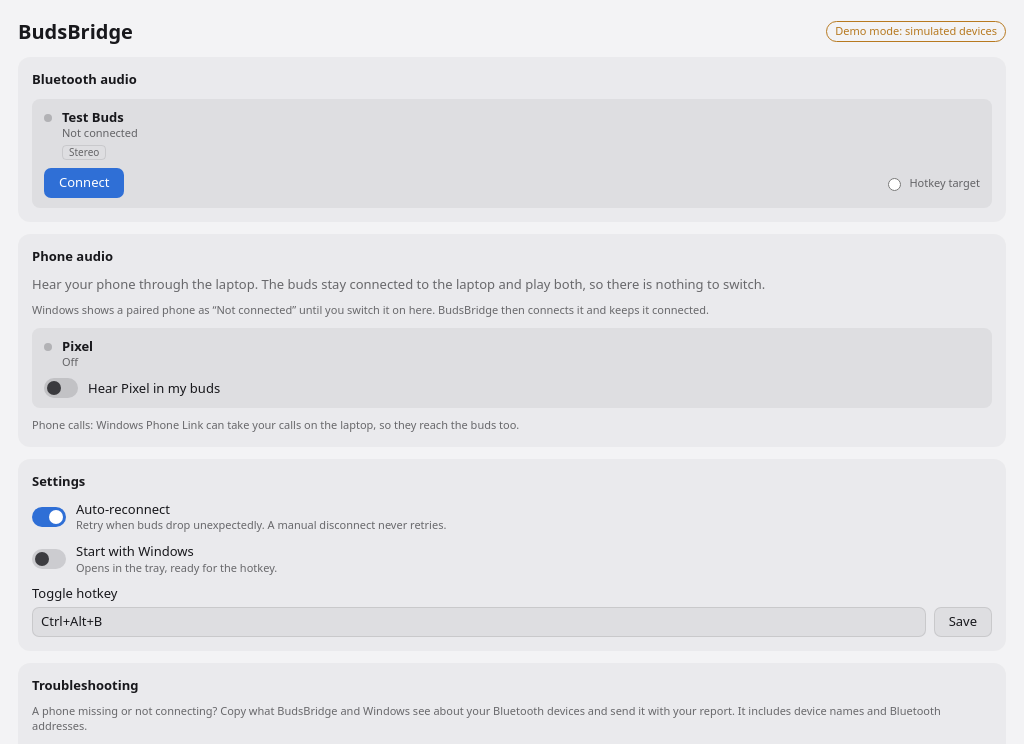
Test: App › reports failed requests
Click the button named "Connect Test Buds" at (84, 183), box [44,168,124,198]
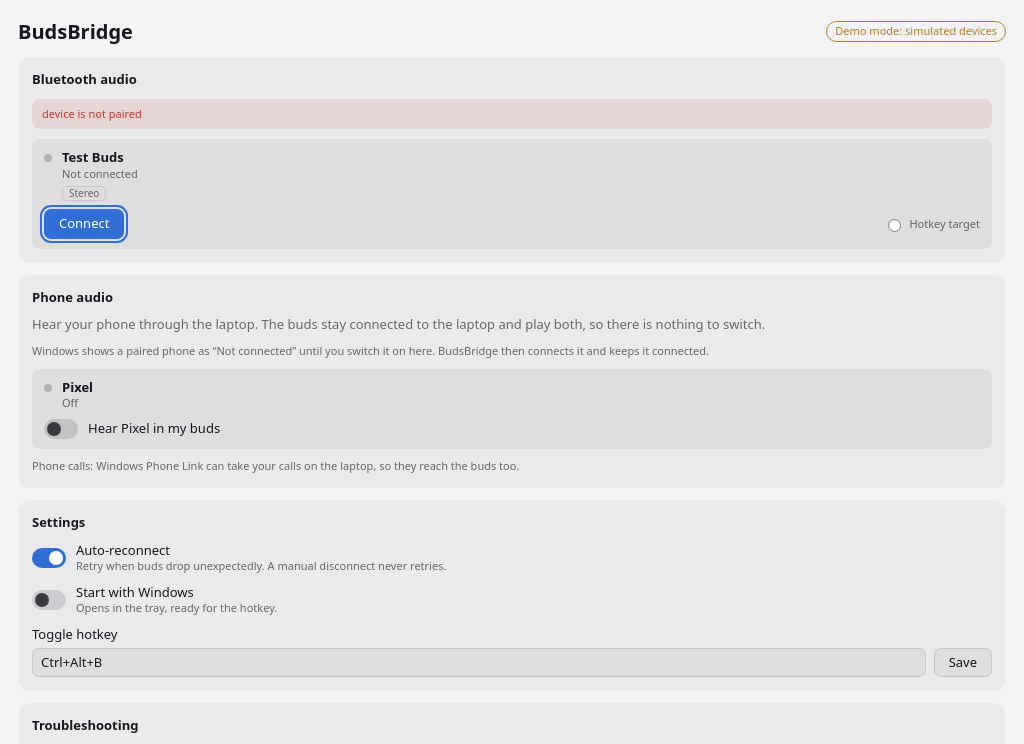
Expected: the message reads "device is not paired", [42,106,142,120]
